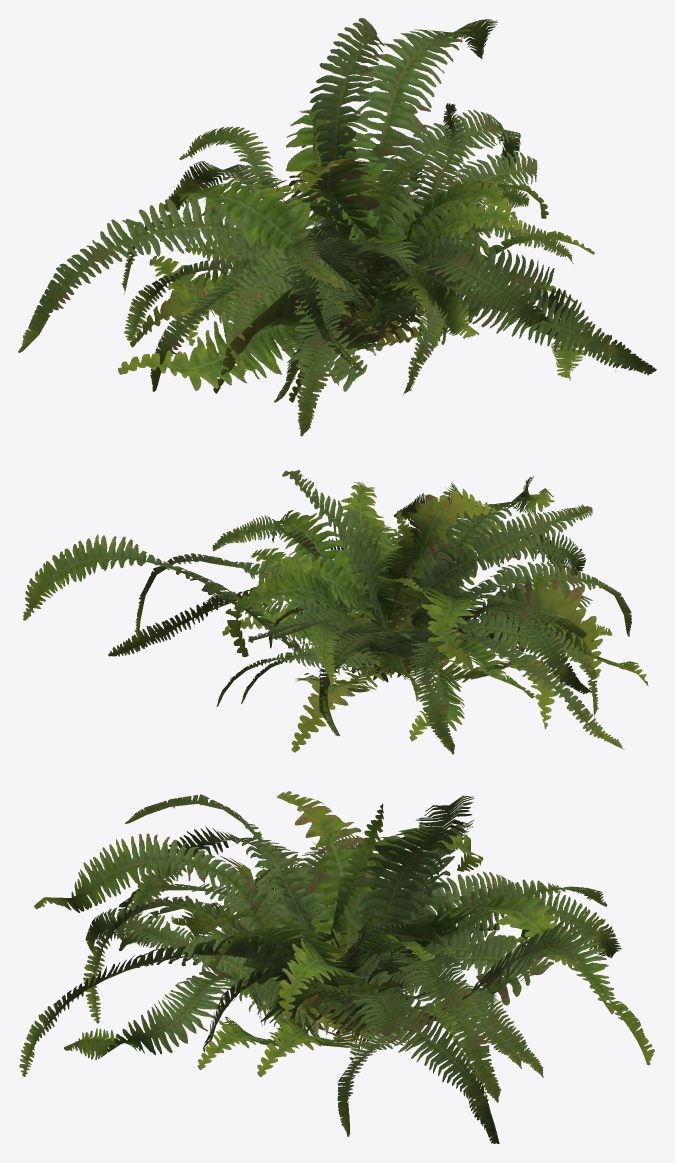
The model's file is fern.glb.
3 views of the same model, one above another, from view 1: azimuth 30°, elevation 25°; view 2: azimuth 150°, elevation 25°; view 3: azimuth 270°, elevation 25° (orthographic). The views are drawn at different scales.
Visible parts, largest first — view 1: v1, v2, v3, v0; view 2: v1, v2, v0, v3; view 3: v1, v2, v0, v3.
Boxes of the visible parts, left/top/right/bottom form: v1: left=18, top=18, right=656, bottom=436; v2: left=118, top=118, right=588, bottom=402; v3: left=149, top=178, right=574, bottom=402; v0: left=182, top=103, right=554, bottom=351; v1: left=23, top=470, right=631, bottom=752; v2: left=108, top=482, right=648, bottom=754; v0: left=212, top=515, right=534, bottom=706; v3: left=266, top=518, right=612, bottom=741; v1: left=19, top=791, right=654, bottom=1136; v2: left=64, top=794, right=607, bottom=1143; v0: left=119, top=865, right=553, bottom=1077; v3: left=131, top=859, right=536, bottom=1069.
Size of the model in its own units: 0.9897 by 0.4277 by 0.8937.
1 material, 1 textured.
